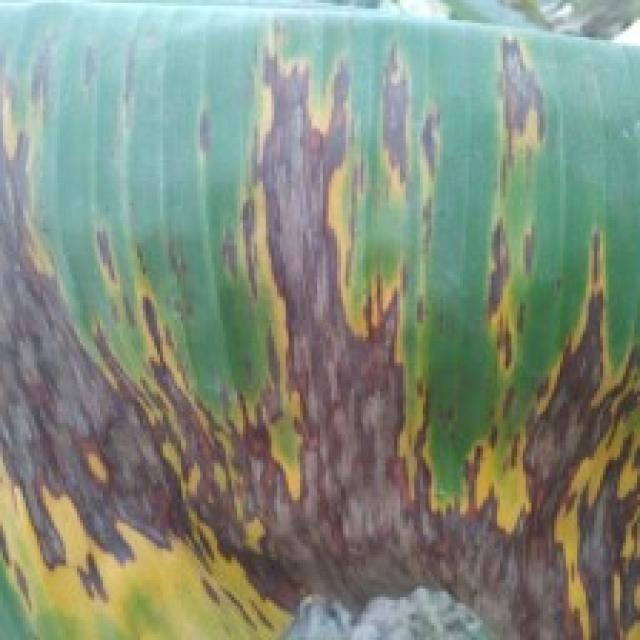Early_leaf_spot: (0, 8, 495, 640), (470, 36, 640, 640)
